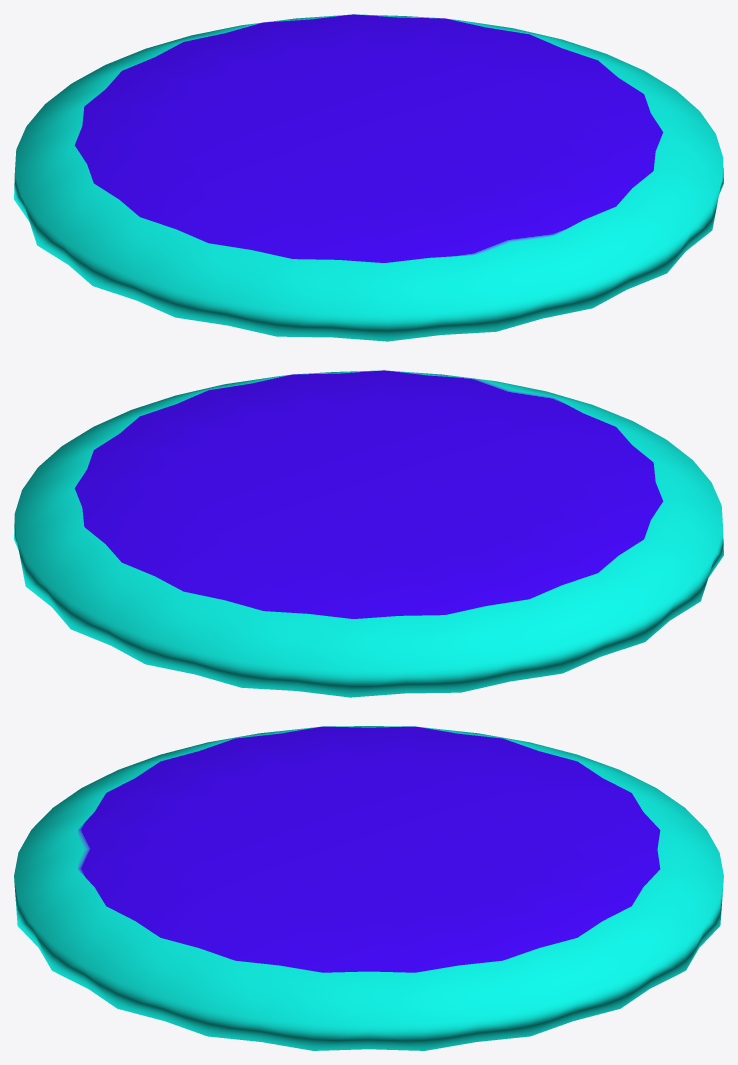
Rendered from pickup_blue.fbx.
3 views of the same model, one above another, from view 1: azimuth 30°, elevation 25°; view 2: azimuth 150°, elevation 25°; view 3: azimuth 270°, elevation 25° (orthographic).
Visible parts, largest first — view 1: pCylinder1; view 2: pCylinder1; view 3: pCylinder1.
Part boxes in pixels (x1,y1,x2,y2): pCylinder1: [14, 14, 723, 341]; pCylinder1: [14, 370, 723, 697]; pCylinder1: [14, 726, 723, 1050].
Bounding box in the file's own units: 1.75 × 0.1917 × 1.75.
1 material, 1 textured.
